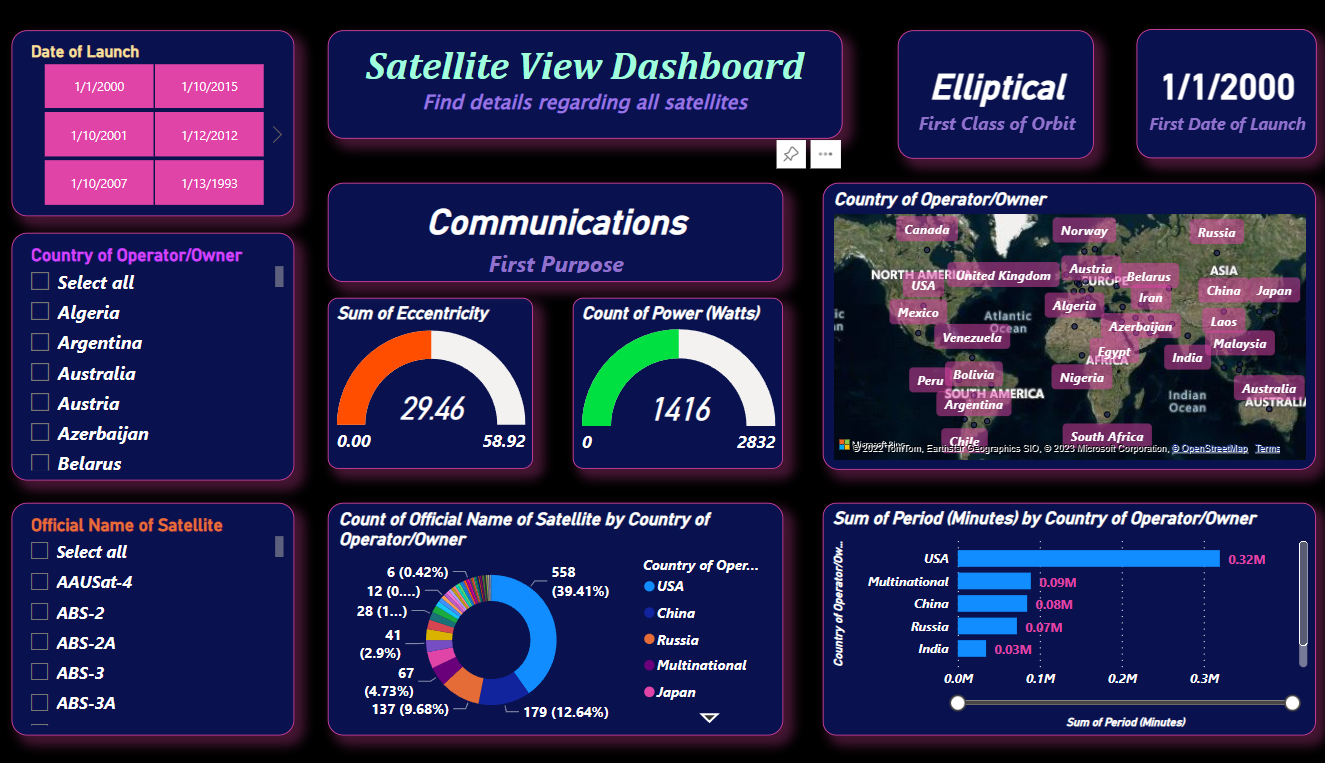

The page's visual inventory and layout, read from the dashboard file:
{"tool":"powerbi","page":{"name":"Page 1","canvas":[1280,720],"ordinal":0},"visuals":[{"type":"slicer","fields":{"Values":["database.Official Name of Satellite"]},"box":[12.1,464.3,271.4,223.1],"z":0},{"type":"slicer","fields":{"Values":["database.Date of Launch"]},"box":[12.1,10.9,271.4,178.5],"z":1000},{"type":"slicer","fields":{"Values":["database.Country of Operator/Owner"]},"box":[12.1,205,271.4,237.6],"z":2000},{"type":"textbox","box":[314.8,10.9,493.3,103.7],"z":3000},{"type":"gauge","fields":{"Y":["Sum(database.Eccentricity)"]},"box":[314.8,267.7,196.6,164],"z":4000},{"type":"donutChart","fields":{"Y":["CountNonNull(database.Official Name of Satellite)"],"Category":["database.Country of Operator/Owner"]},"box":[314.8,464.3,436.6,223.1],"z":5000},{"type":"map","fields":{"Category":["database.Country of Operator/Owner"]},"box":[789.9,156.8,472.8,275],"z":6000},{"type":"card","fields":{"Values":["Min(database.Purpose)"]},"box":[314.8,156.8,436.6,95.3],"z":7000},{"type":"card","fields":{"Values":["Min(database.Class of Orbit)"]},"box":[862.3,10.9,188.1,123],"z":8000},{"type":"clusteredBarChart","fields":{"Category":["database.Country of Operator/Owner"],"Y":["Sum(database.Period (Minutes))"]},"box":[789.9,464.3,472.8,223.1],"z":9000},{"type":"card","fields":{"Values":["Min(database.Date of Launch)"]},"box":[1090.3,9.6,172.5,124.2],"z":10000},{"type":"gauge","fields":{"Y":["CountNonNull(database.Power (Watts))"]},"box":[549.9,267.7,201.4,164],"z":11000}]}

Visuals, with their boxes in screenshot pixels (x1, y1, x2, y2), scaled from the page's 1280x720 canvas onto the 1325x763 screenshot:
slicer - database.Official Name of Satellite: box=[13, 492, 293, 728]
slicer - database.Date of Launch: box=[13, 12, 293, 201]
slicer - database.Country of Operator/Owner: box=[13, 217, 293, 469]
textbox: box=[326, 12, 837, 121]
gauge - Sum(database.Eccentricity): box=[326, 284, 529, 457]
donutChart - CountNonNull(database.Official Name of Satellite) x database.Country of Operator/Owner: box=[326, 492, 778, 728]
map - database.Country of Operator/Owner: box=[818, 166, 1307, 458]
card - Min(database.Purpose): box=[326, 166, 778, 267]
card - Min(database.Class of Orbit): box=[893, 12, 1087, 142]
clusteredBarChart - database.Country of Operator/Owner x Sum(database.Period (Minutes)): box=[818, 492, 1307, 728]
card - Min(database.Date of Launch): box=[1129, 10, 1307, 142]
gauge - CountNonNull(database.Power (Watts)): box=[569, 284, 778, 457]
